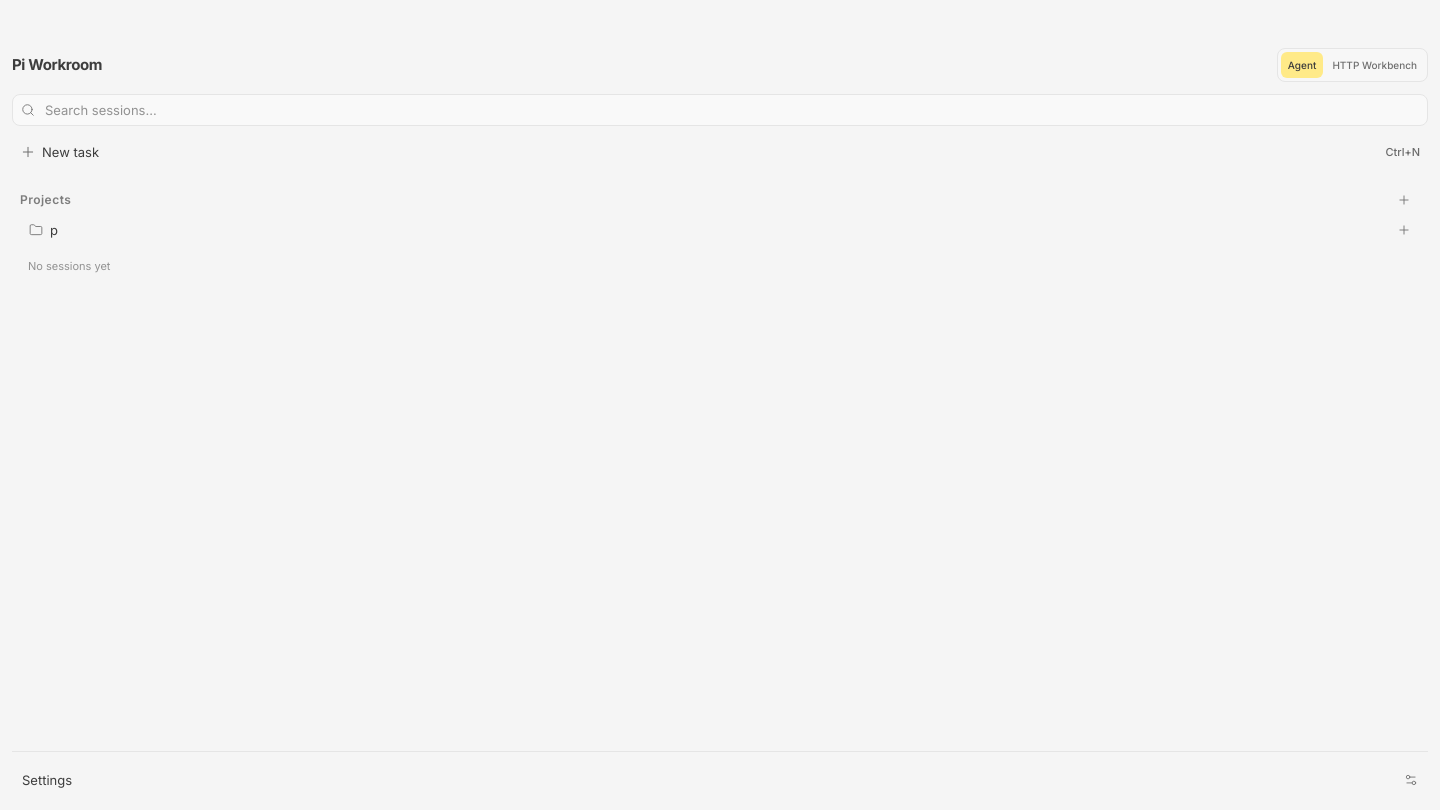
Scenario: SessionSidebar › search shows matching older sessions without the collapse toggle
Type "older matching" into the search field labelled "Search sessions…" at (731, 110), box 43,99 -> 1419,121
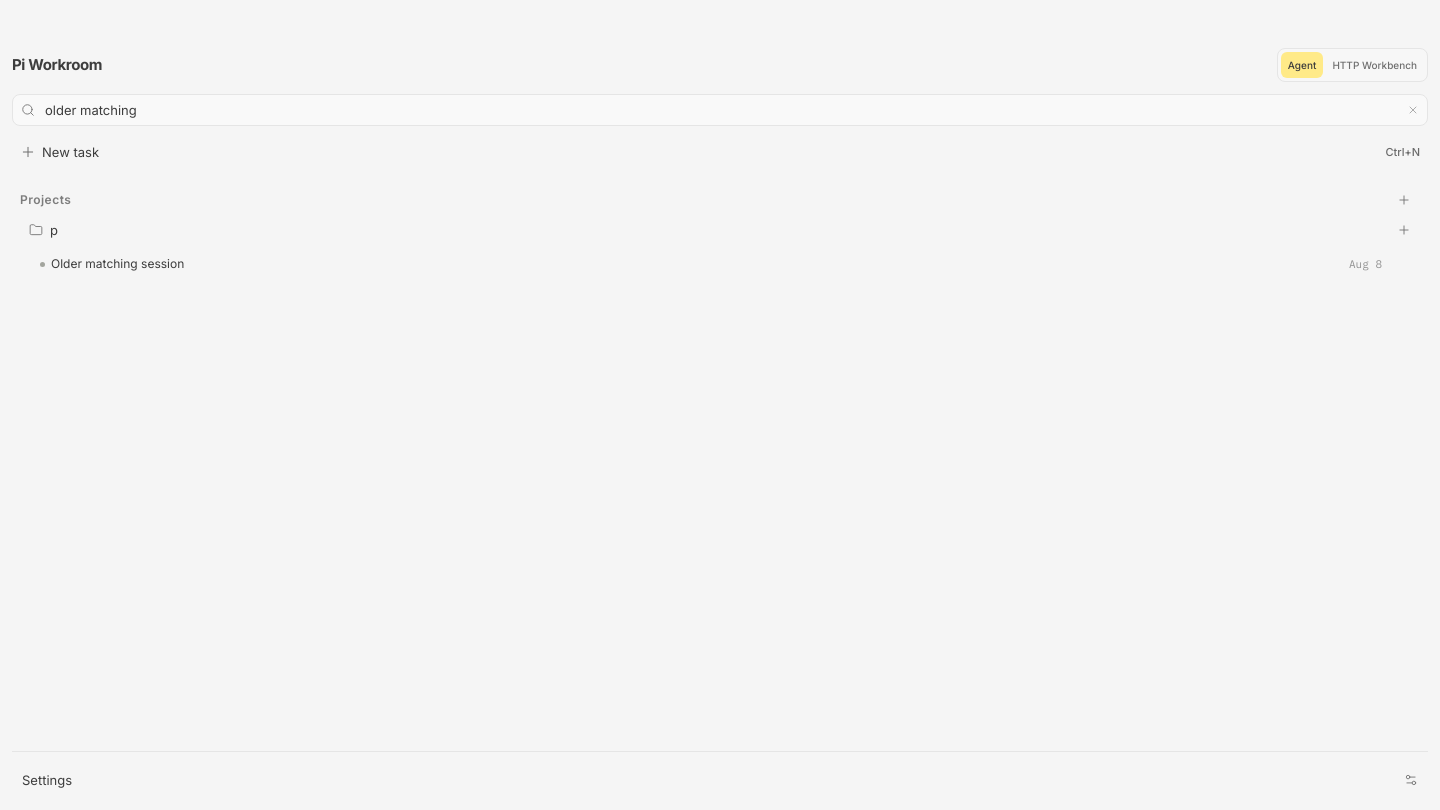
Expected: the text "Older matching session" is shown, 51,256 -> 184,271
